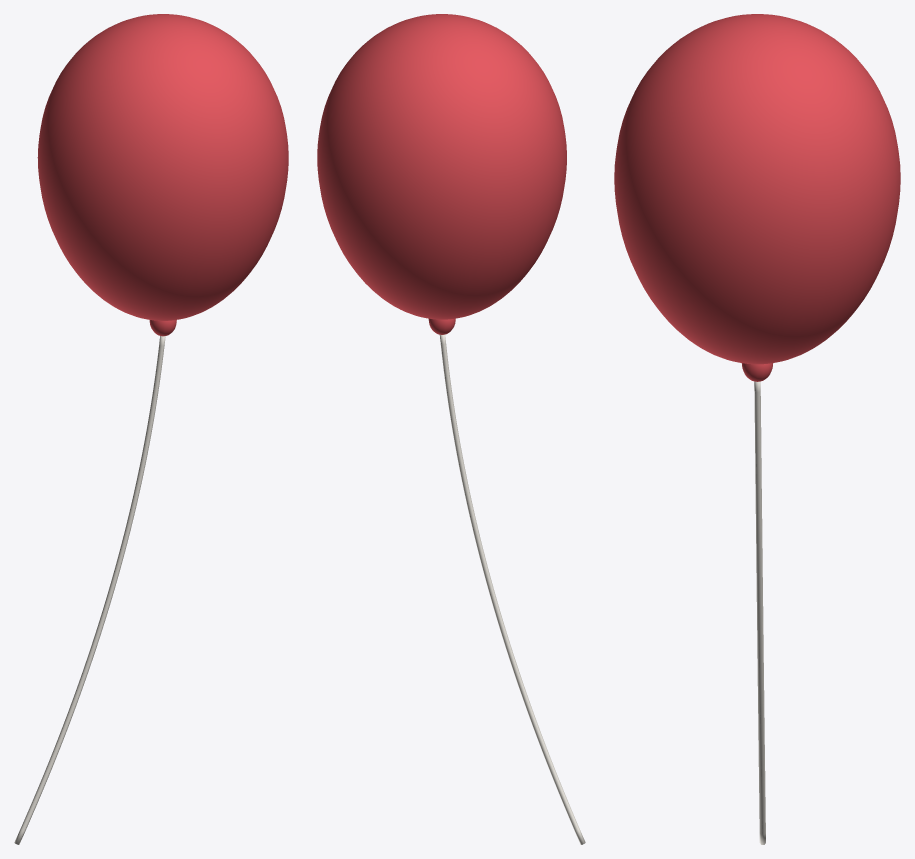
File: balloon.glb
3 views of the same model, side by side, from view 1: azimuth 30°, elevation 25°; view 2: azimuth 150°, elevation 25°; view 3: azimuth 270°, elevation 25° (orthographic). The views are drawn at different scales.
Visible parts, largest first — view 1: balloon; view 2: balloon; view 3: balloon.
Boxes of the visible parts, bbox=[...] form: balloon: bbox=[14, 14, 288, 844]; balloon: bbox=[317, 14, 585, 844]; balloon: bbox=[614, 14, 900, 844].
Bounding box in the file's own units: 0.734 × 2.17 × 0.6265.
